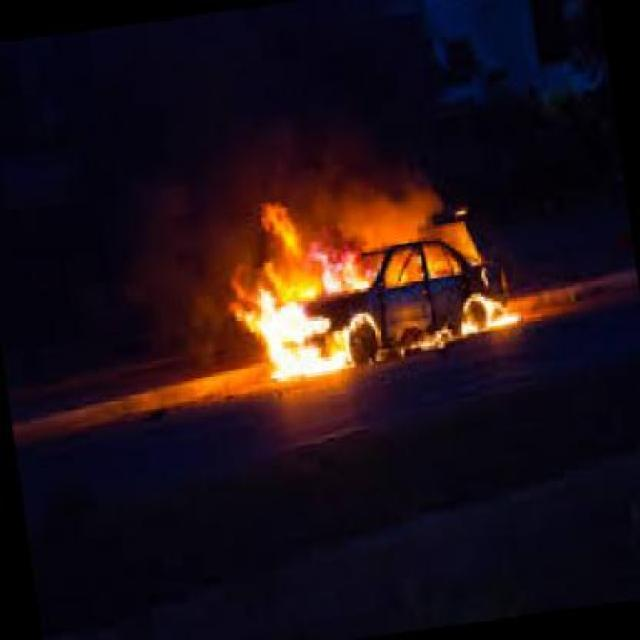Fire: (222, 178, 534, 386)
